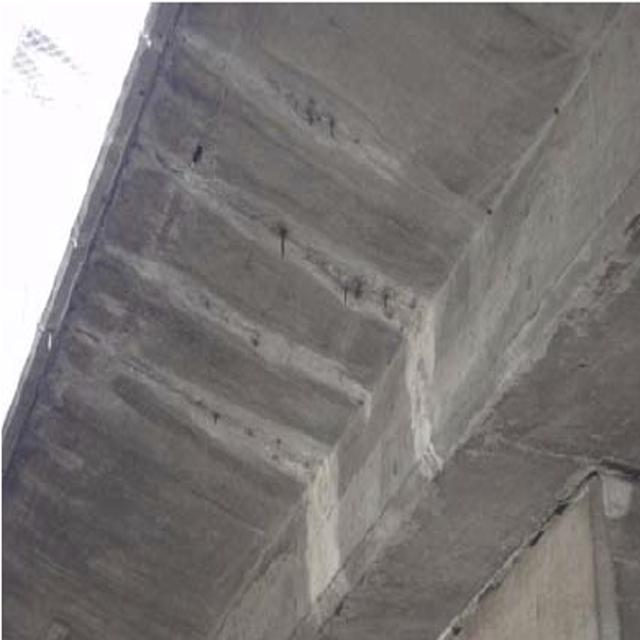freelime: (88, 43, 446, 610)
